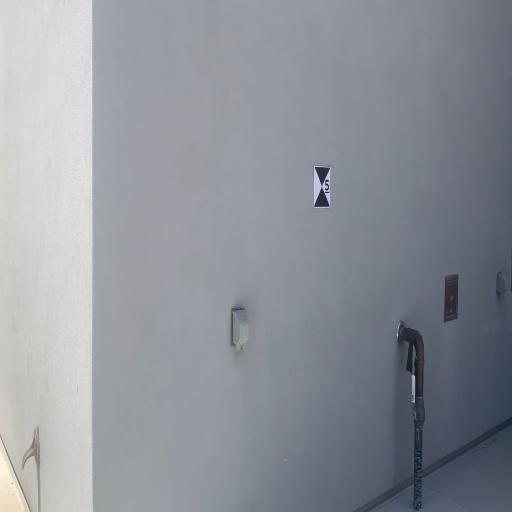target5: (314, 166, 332, 208)
